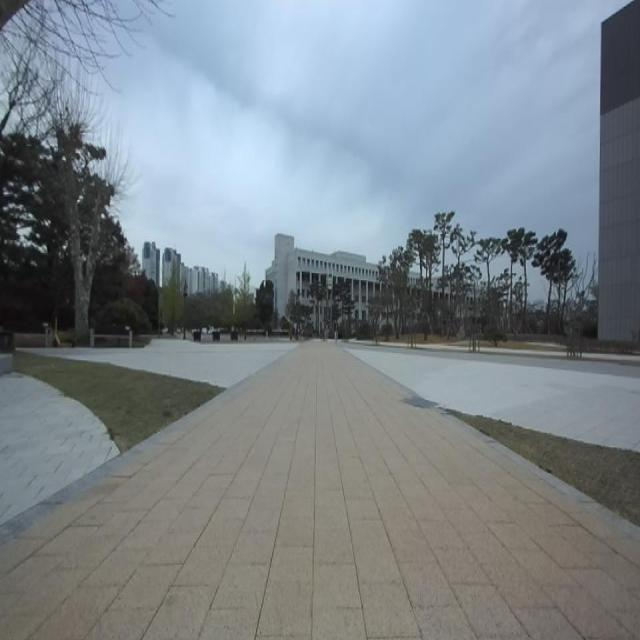sidewalk: (0, 341, 640, 638)
